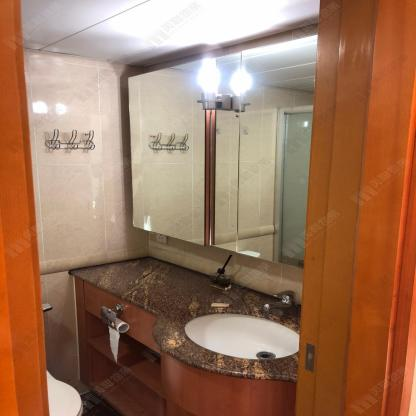Toilet Sink: (178, 308, 301, 367)
